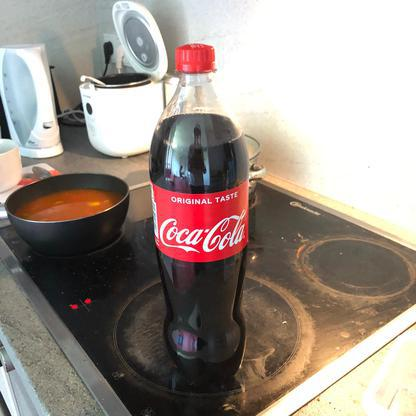coca-cola: (146, 42, 253, 389)
